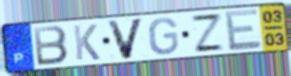B: (32, 25, 71, 68)
E: (223, 7, 264, 53)
G: (148, 17, 180, 56)
K: (71, 23, 102, 62)
V: (105, 17, 146, 62)
Z: (189, 13, 227, 54)
